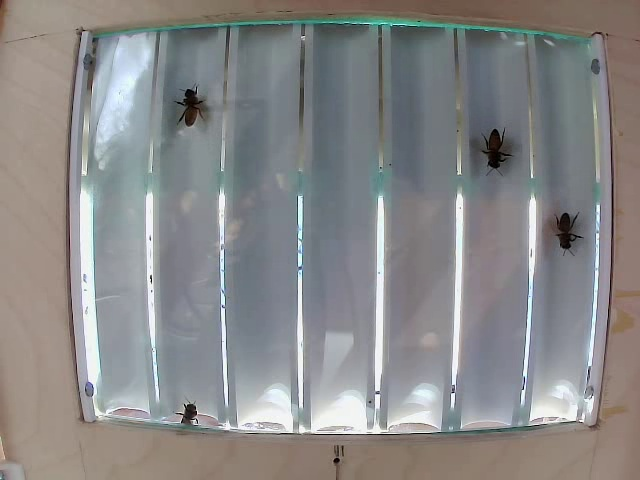bee: (540, 195, 577, 245), (174, 90, 216, 132), (475, 125, 504, 168)
